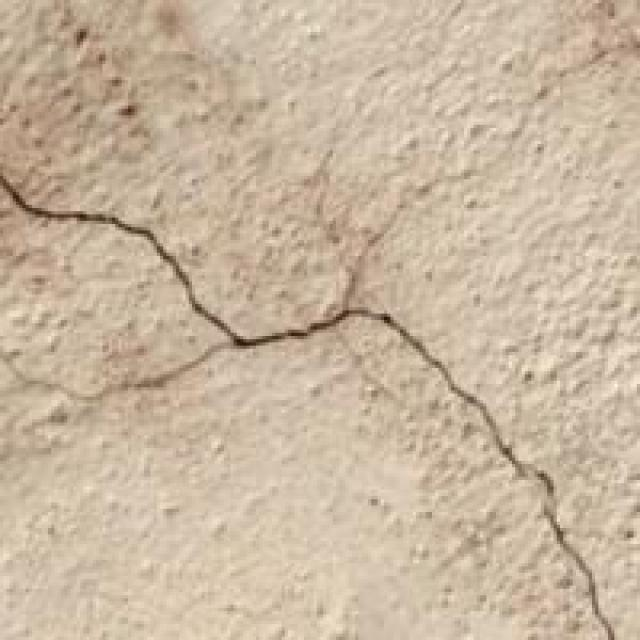Crack: (4, 147, 615, 624)
